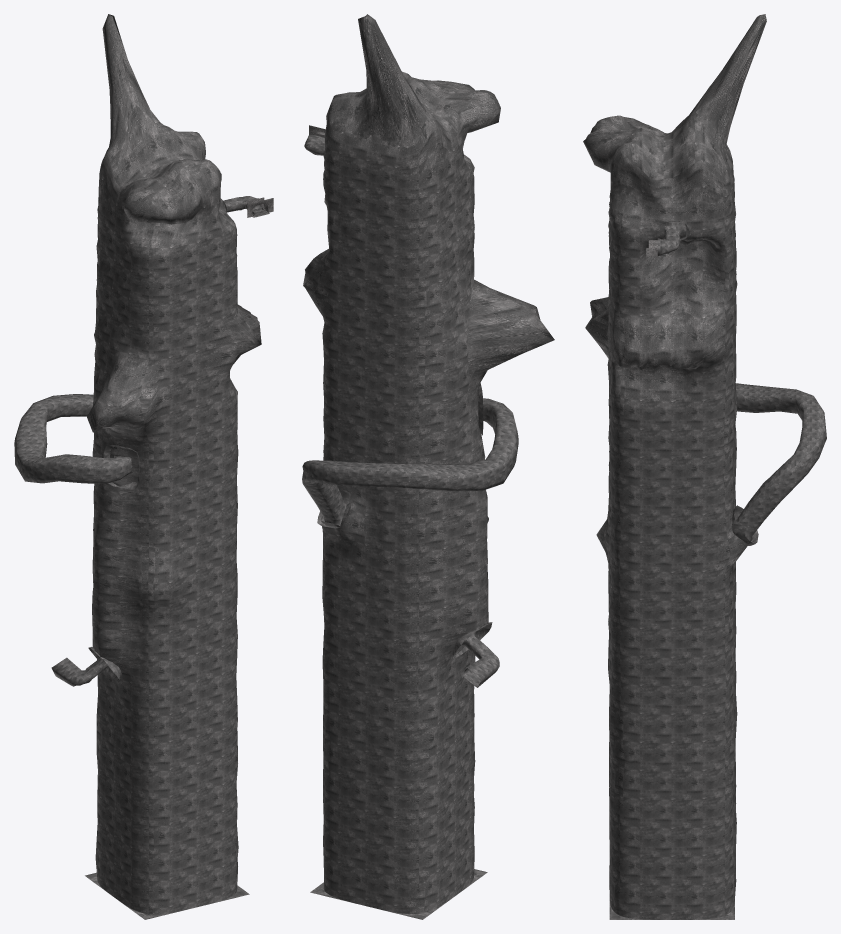
Rendered from well_00.FBX.
3 views of the same model, side by side, from view 1: azimuth 30°, elevation 25°; view 2: azimuth 150°, elevation 25°; view 3: azimuth 270°, elevation 25° (orthographic). The views are drawn at different scales.
Visible parts, largest first — view 1: Box03, Box09, Box04; view 2: Box03, Box09, Box04; view 3: Box03, Box09, Box01.
Boxes of the visible parts, left/top/right/bottom form: Box03: left=85, top=14, right=261, bottom=919; Box09: left=14, top=394, right=139, bottom=489; Box04: left=51, top=646, right=121, bottom=686; Box03: left=303, top=14, right=554, bottom=919; Box09: left=302, top=383, right=518, bottom=528; Box04: left=451, top=622, right=499, bottom=687; Box03: left=583, top=14, right=766, bottom=919; Box09: left=731, top=383, right=826, bottom=545; Box01: left=657, top=221, right=690, bottom=255.
Size of the model in its own units: 4233 by 3980 by 15703.
